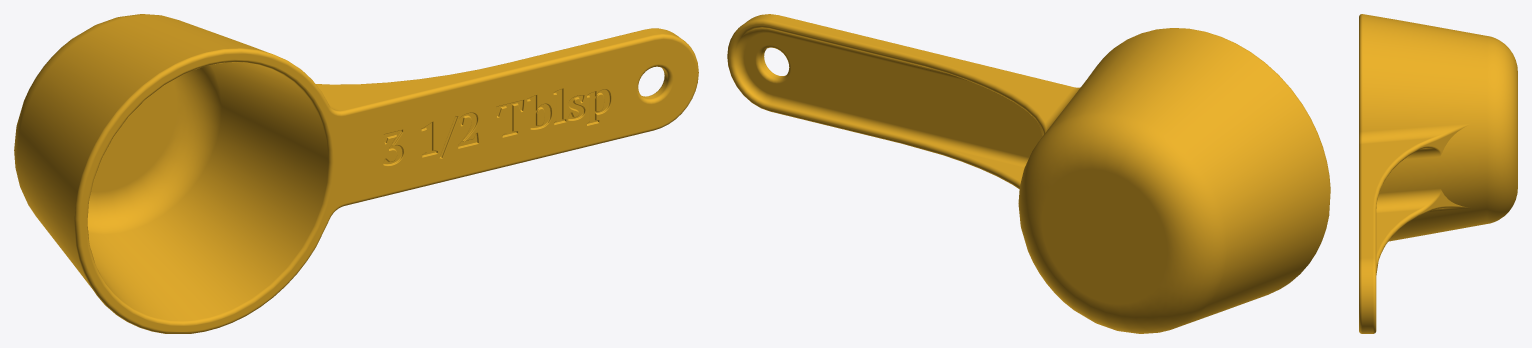
File: Scooper.fbx
The picture shows the model from 3 angles, left to right: view 1: azimuth 30°, elevation 25°; view 2: azimuth 150°, elevation 25°; view 3: azimuth 270°, elevation 25°; orthographic projection. The views are drawn at different scales.
Visible parts, largest first — view 1: Cup; view 2: Cup; view 3: Cup.
Boxes of the visible parts, <box> form: Cup: <box>14,14,698,333</box>; Cup: <box>727,14,1330,333</box>; Cup: <box>1359,14,1517,333</box>.
Bounding box in the file's own units: 5.04 × 2.15 × 1.47.
